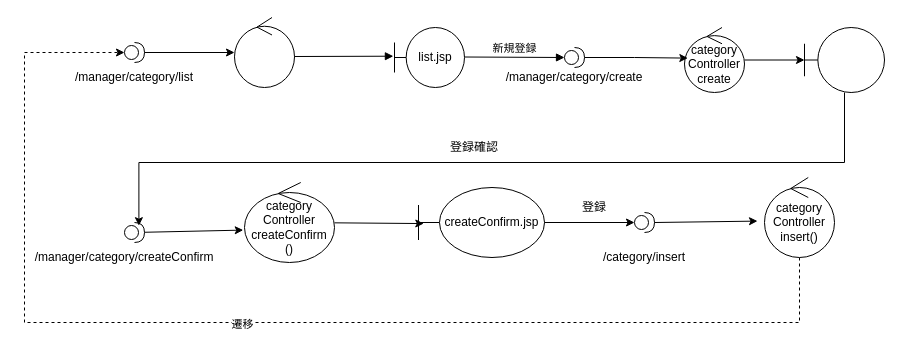
The diagram is 902 pixels wide and 348 high, and some of its shapes have lost their labels. The shapes that lost their labels are listed below. From the top down, each one's centre as x and y in pixels, then its label:
pixel 264 52: category Controller list()
pixel 844 59: create.jsp
